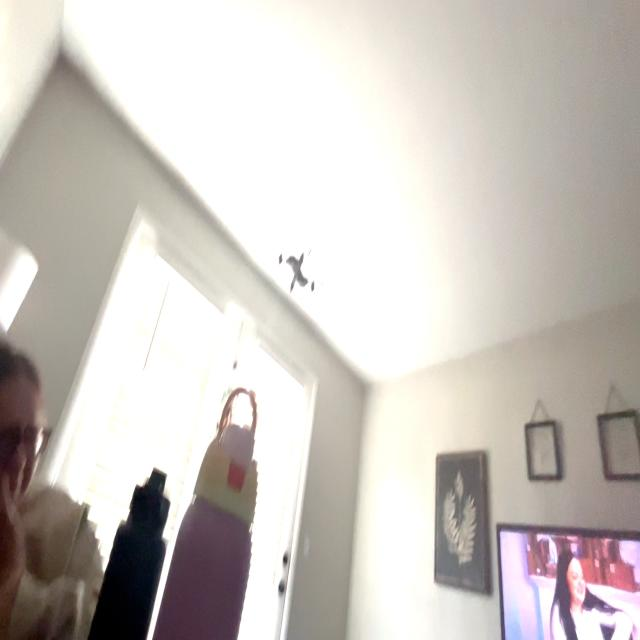drone: (258, 223, 324, 314)
